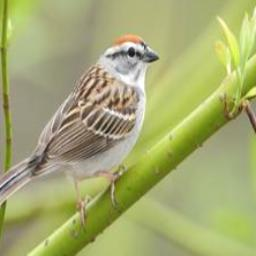Sparrow: (0, 33, 163, 231)
